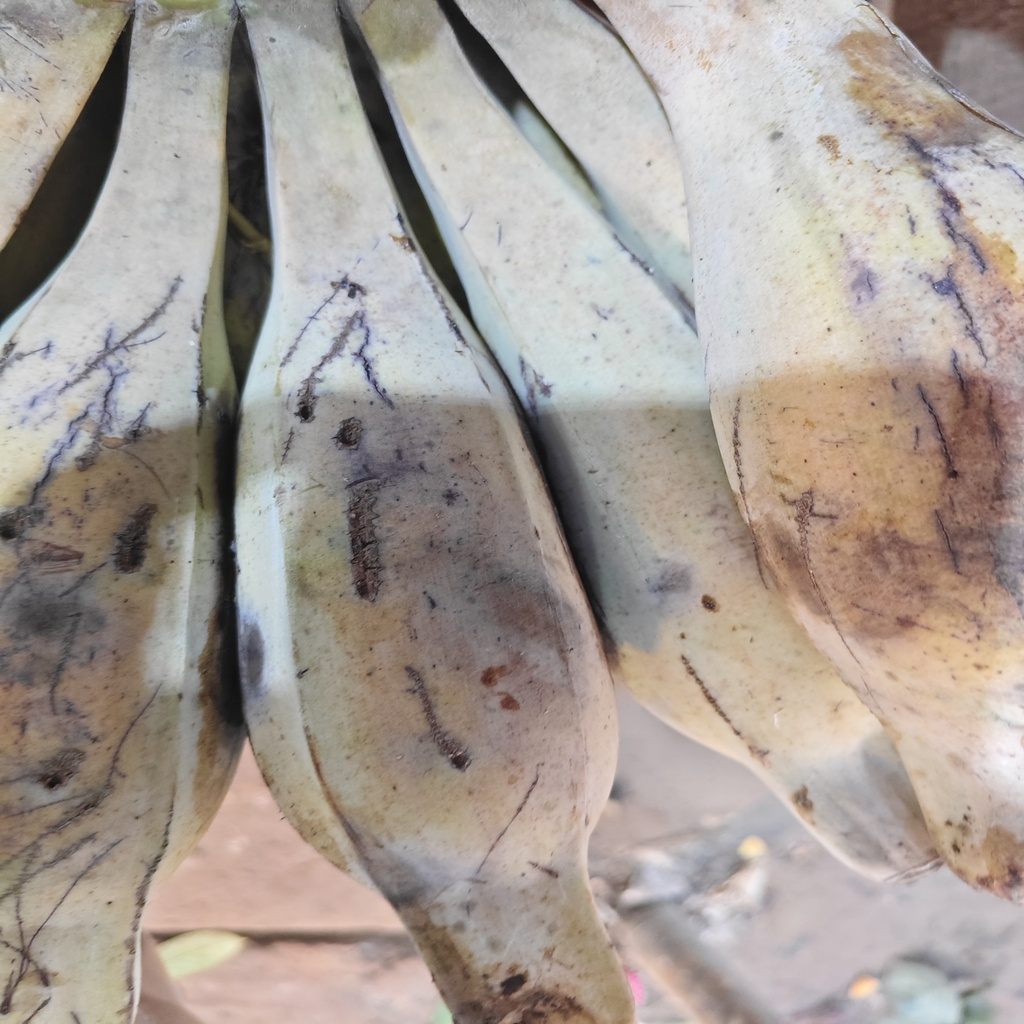unhealthy: (632, 2, 1024, 903), (231, 171, 622, 1024), (1, 176, 233, 1022)
